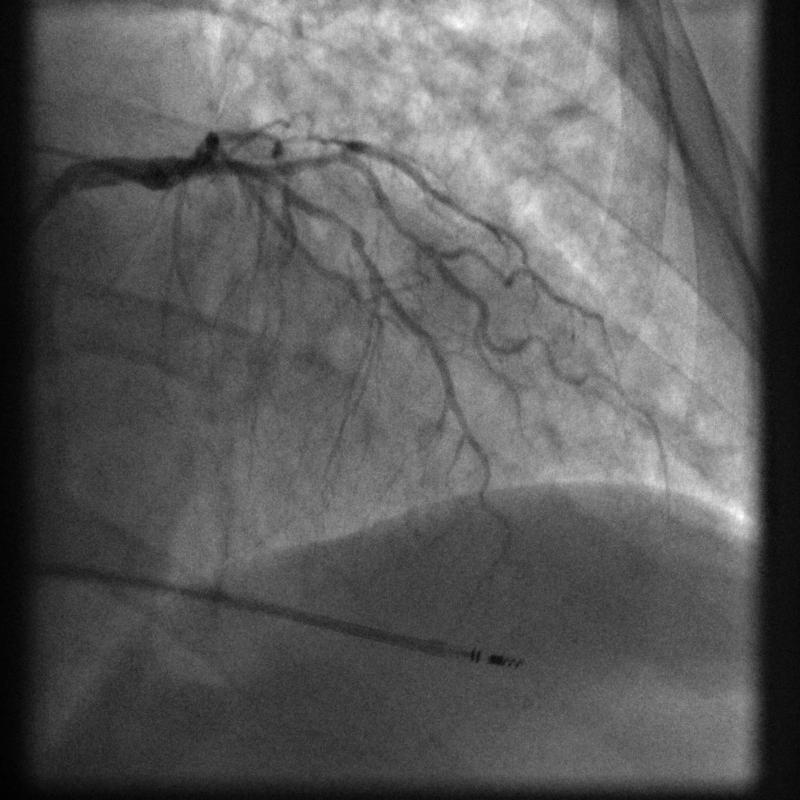Stenosis: (324, 205, 360, 248)
